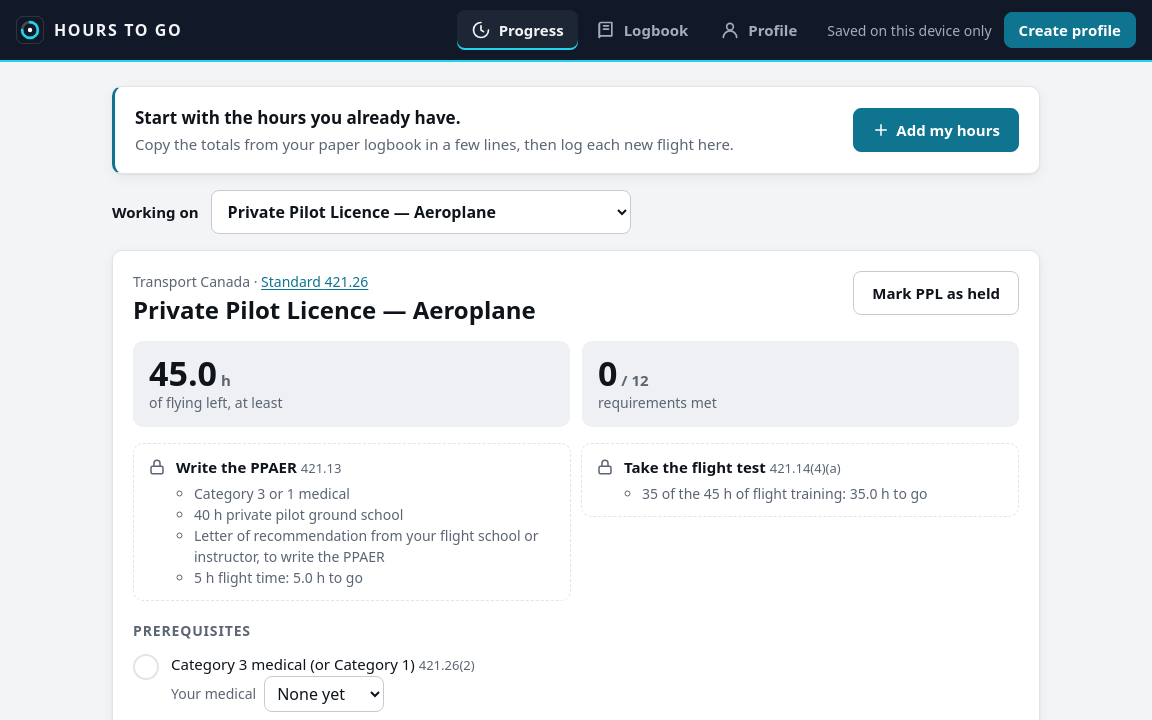
Scenario: the app as a guest › offers to create a profile once there is something to lose
What coordinates should you click on to do the following:
click the button "Mark PPL as held"
I would click on:
 (936, 293)
Its box is [853, 271, 1019, 315].
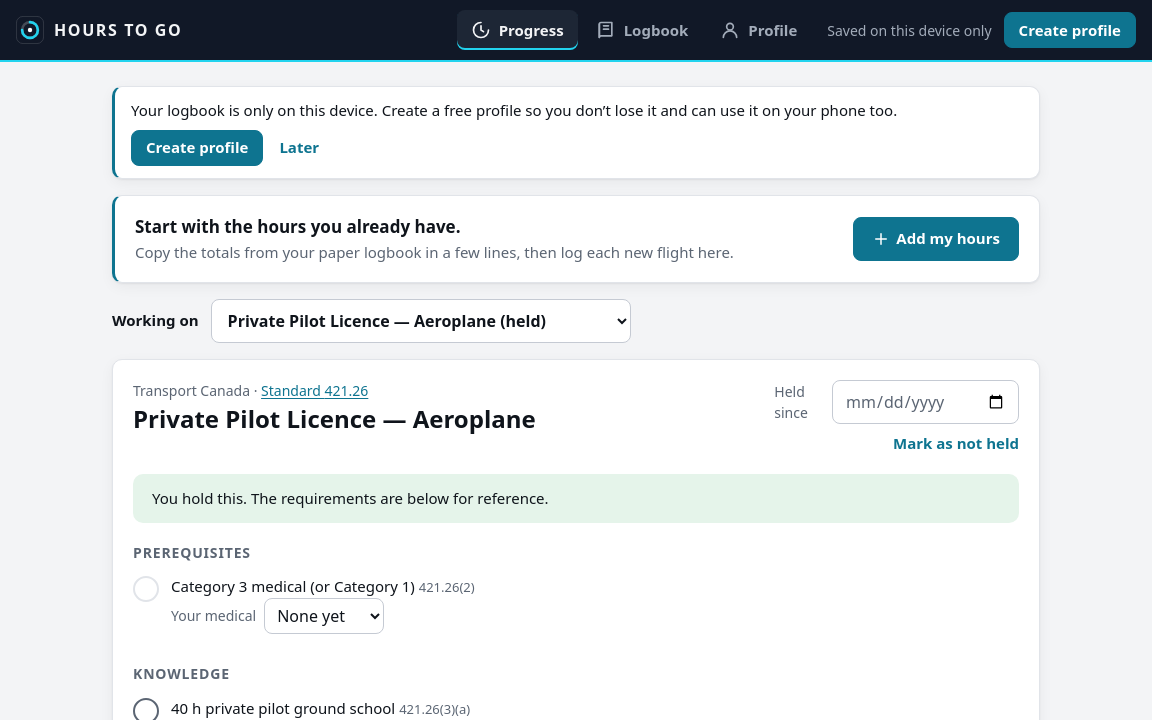
Expected: the text "only on this device" is shown, [131, 100, 897, 120]
